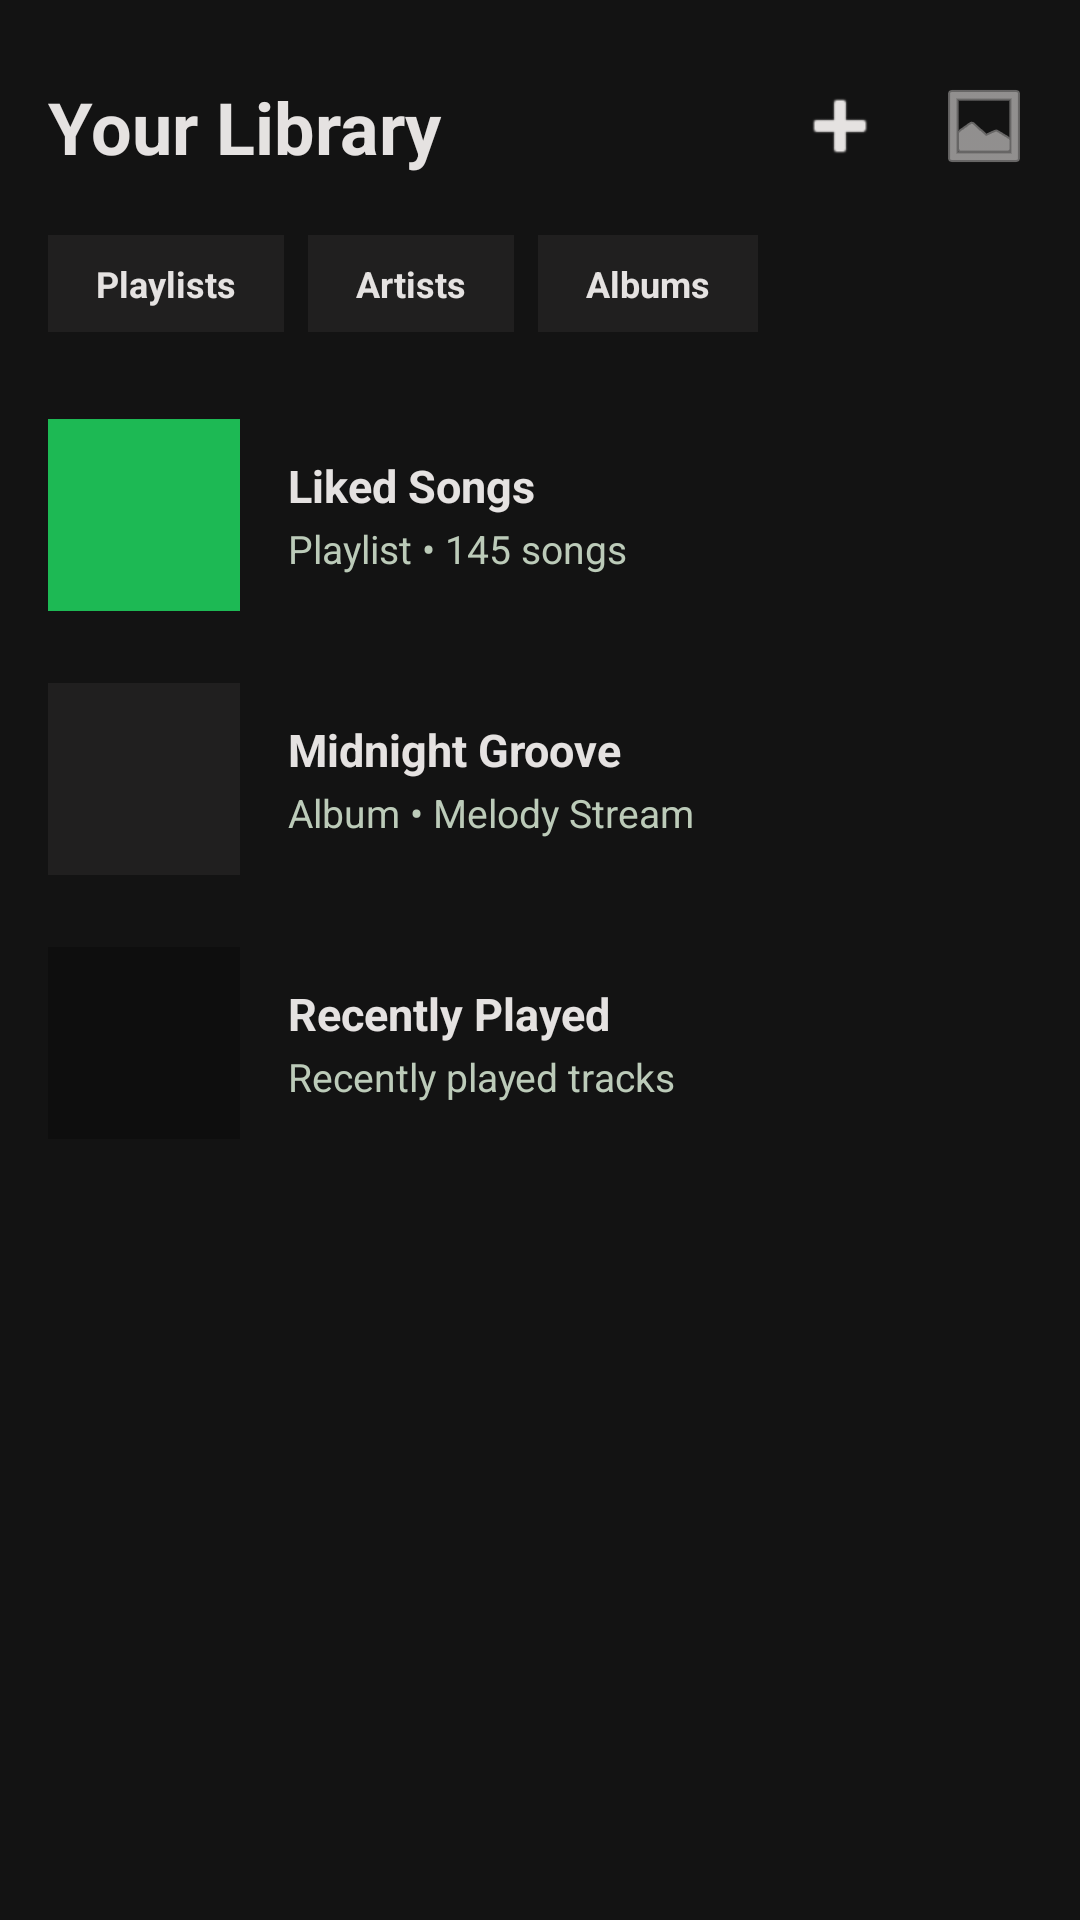

Icons on this 1080px x 1920px Android screen, each with its box as [x1,y1,x2,y2]:
Add Song: [813,99,867,153]
